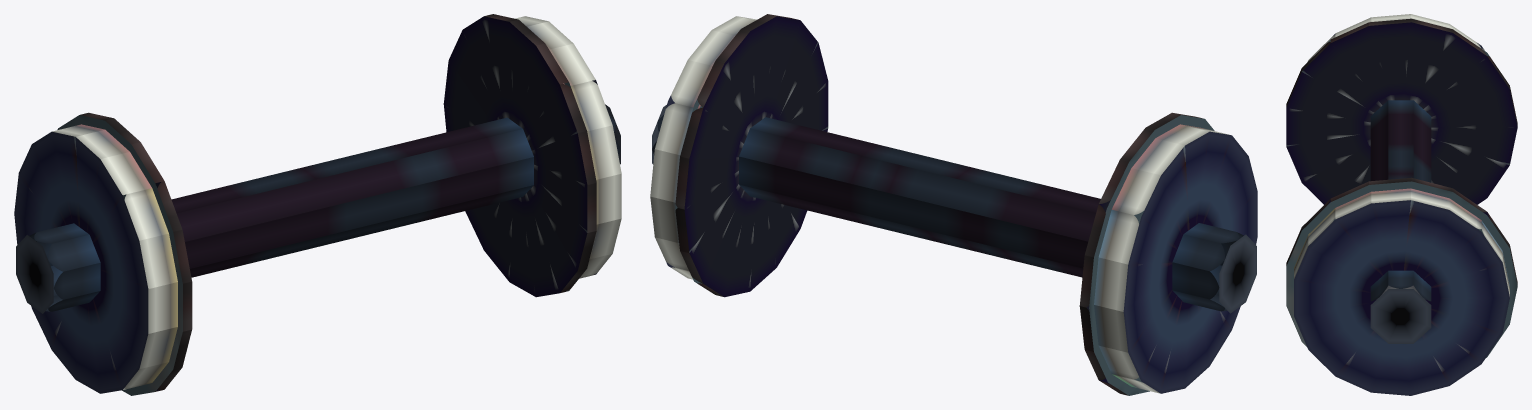
File: zk6_wheel.obj
3 renders of one model, left to right at view 1: azimuth 30°, elevation 25°; view 2: azimuth 150°, elevation 25°; view 3: azimuth 270°, elevation 25°, orthographic. The views are drawn at different scales.
Parts seen in each view (by area): view 1: cylinder_selection_selection_selection_selection_selection; view 2: cylinder_selection_selection_selection_selection_selection; view 3: cylinder_selection_selection_selection_selection_selection.
Boxes of the visible parts, x1,y1,x2,y2 form: cylinder_selection_selection_selection_selection_selection: [14, 14, 621, 395]; cylinder_selection_selection_selection_selection_selection: [650, 14, 1257, 395]; cylinder_selection_selection_selection_selection_selection: [1286, 14, 1517, 395].
Bounding box in the file's own units: 1.94 × 0.85 × 0.85.
